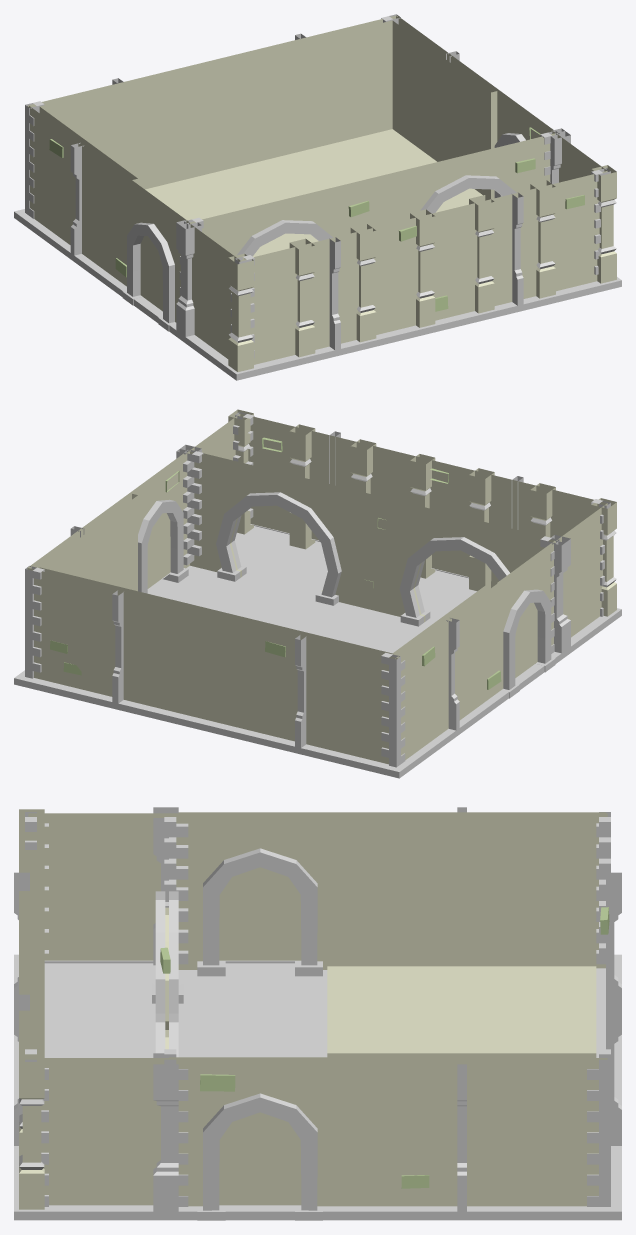
The model's file is Building3_Base.fbx.
The picture shows the model from 3 angles, top to bottom: view 1: azimuth 30°, elevation 25°; view 2: azimuth 150°, elevation 25°; view 3: azimuth 270°, elevation 25°; orthographic projection. The views are drawn at different scales.
Visible parts, largest first — view 1: Building3_Top.001, Building3_Middle, Foundation_Top.001, SmallBrick.001, CornerTessellation.004, SmallBrick.002; view 2: Building3_Middle, Building3_Top.001, Foundation_Top.001, CornerTessellation.004, SmallBrick.001; view 3: Building3_Top.001, Building3_Middle, Foundation_Top.001, CornerTessellation.004, SmallBrick.001.
Part boxes in pixels (x1,y1,x2,y2): Building3_Top.001: (27, 15, 616, 371); Building3_Middle: (14, 15, 621, 380); Foundation_Top.001: (14, 34, 570, 336); SmallBrick.001: (49, 127, 540, 277); CornerTessellation.004: (25, 14, 559, 295); SmallBrick.002: (399, 195, 584, 311); Building3_Middle: (14, 412, 621, 778); Building3_Top.001: (27, 409, 616, 759); Foundation_Top.001: (24, 444, 570, 776); CornerTessellation.004: (25, 449, 559, 710); SmallBrick.001: (50, 471, 501, 689); Building3_Top.001: (19, 809, 605, 1220); Building3_Middle: (14, 807, 621, 1220); Foundation_Top.001: (153, 807, 621, 1215); CornerTessellation.004: (164, 812, 610, 1206); SmallBrick.001: (160, 907, 609, 1188).
Size of the model in its own units: 1265 by 357 by 1260.
